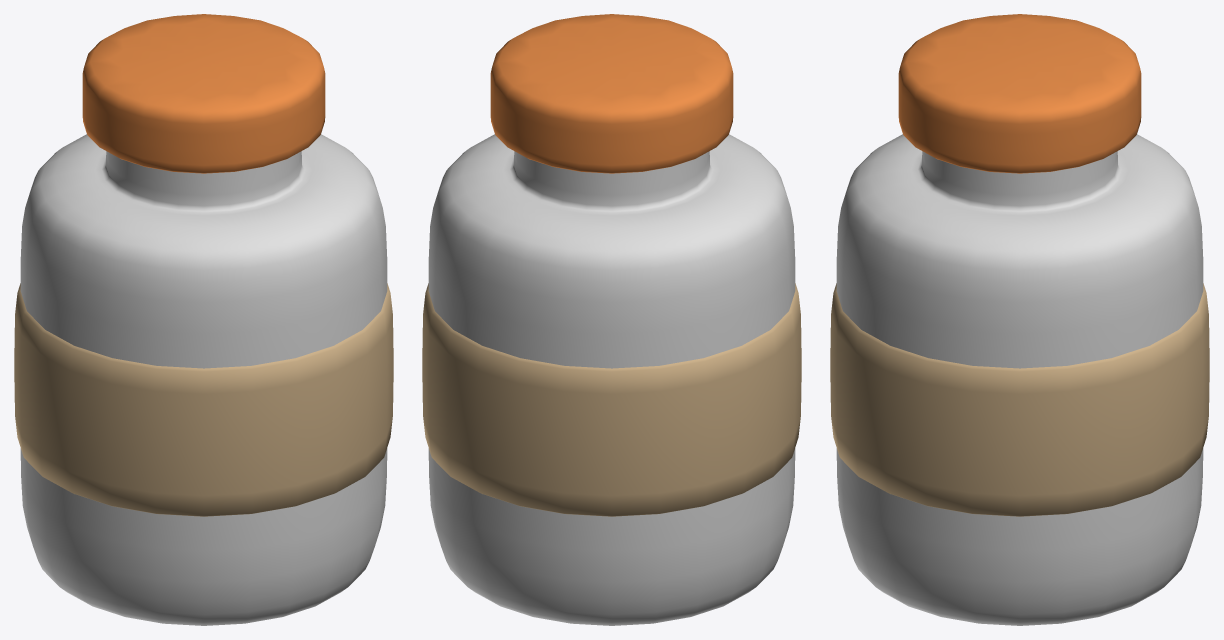
Rendered from poison.fbx.
The picture shows the model from 3 angles, left to right: view 1: azimuth 30°, elevation 25°; view 2: azimuth 150°, elevation 25°; view 3: azimuth 270°, elevation 25°; orthographic projection.
Parts seen in each view (by area): view 1: Cylinder, Cylinder.002, Cylinder.003; view 2: Cylinder, Cylinder.002, Cylinder.003; view 3: Cylinder, Cylinder.002, Cylinder.003.
Part boxes in pixels (x1,y1,x2,y2): Cylinder: (20,134,387,625); Cylinder.002: (14,283,393,516); Cylinder.003: (82,14,325,173); Cylinder: (428,134,795,625); Cylinder.002: (422,283,801,516); Cylinder.003: (490,14,733,173); Cylinder: (836,134,1203,625); Cylinder.002: (830,283,1209,516); Cylinder.003: (898,14,1141,173).
Bounding box in the file's own units: 59.33 × 89.21 × 59.33.
